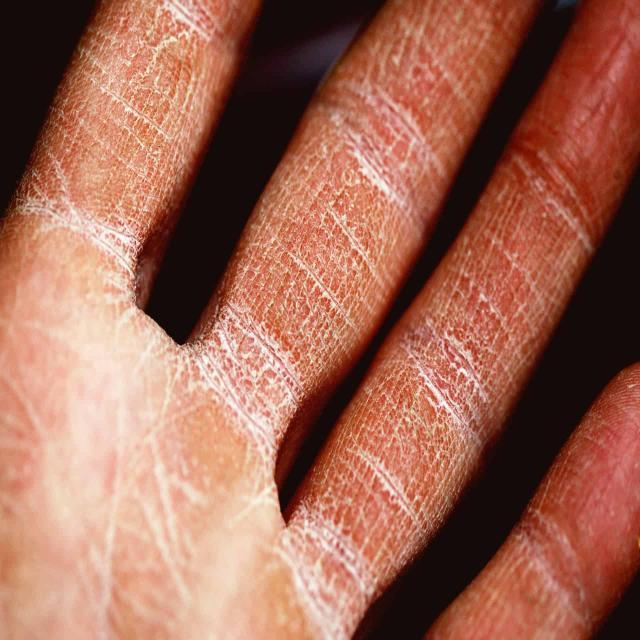dry: (40, 118, 640, 606)
